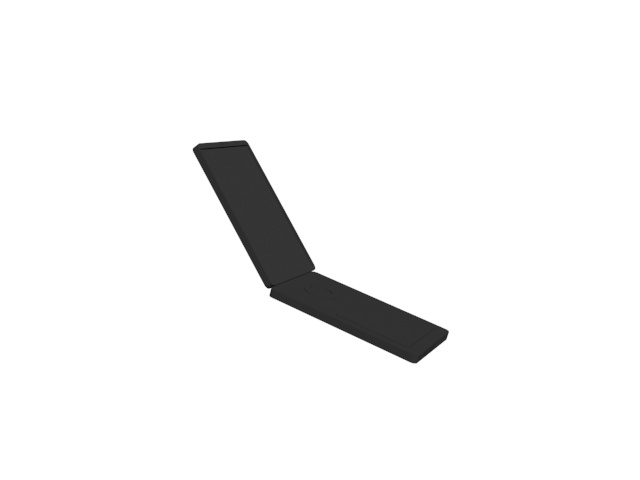mobile_phone: (193, 137, 456, 368)
